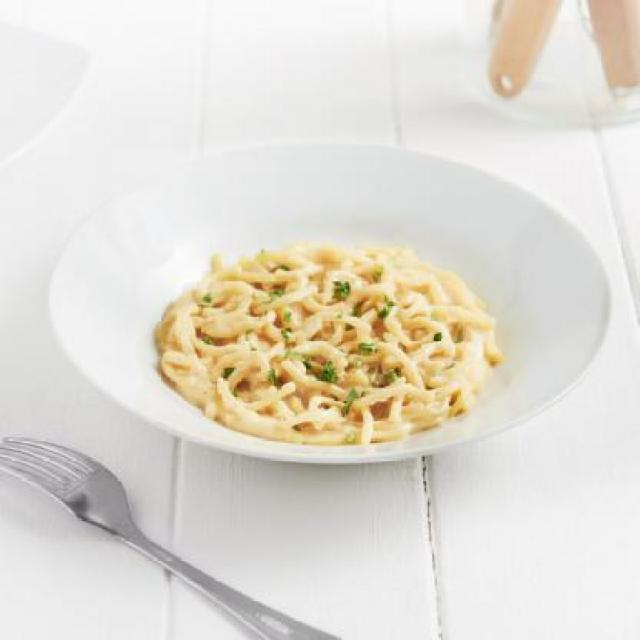Pasta with carbonara sauce: (102, 192, 574, 479)
